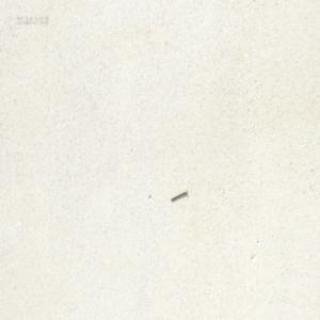Bolttrack_idkeyframe: (169, 188, 186, 200)
